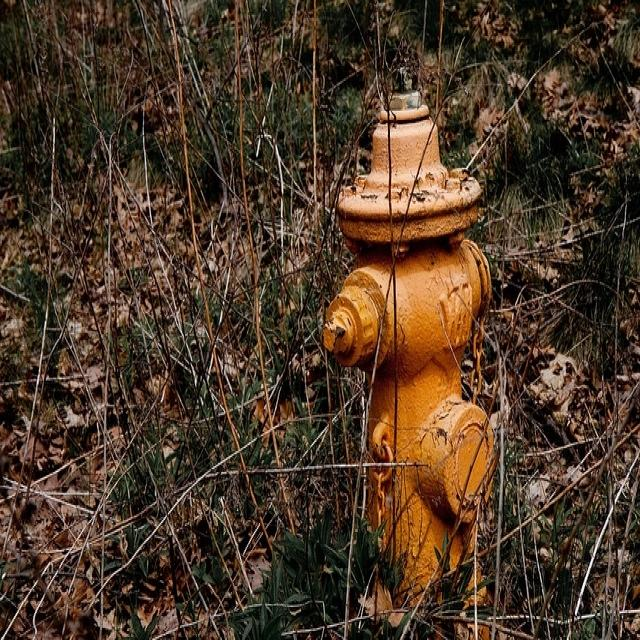fire_hydrant: (313, 117, 537, 607)
